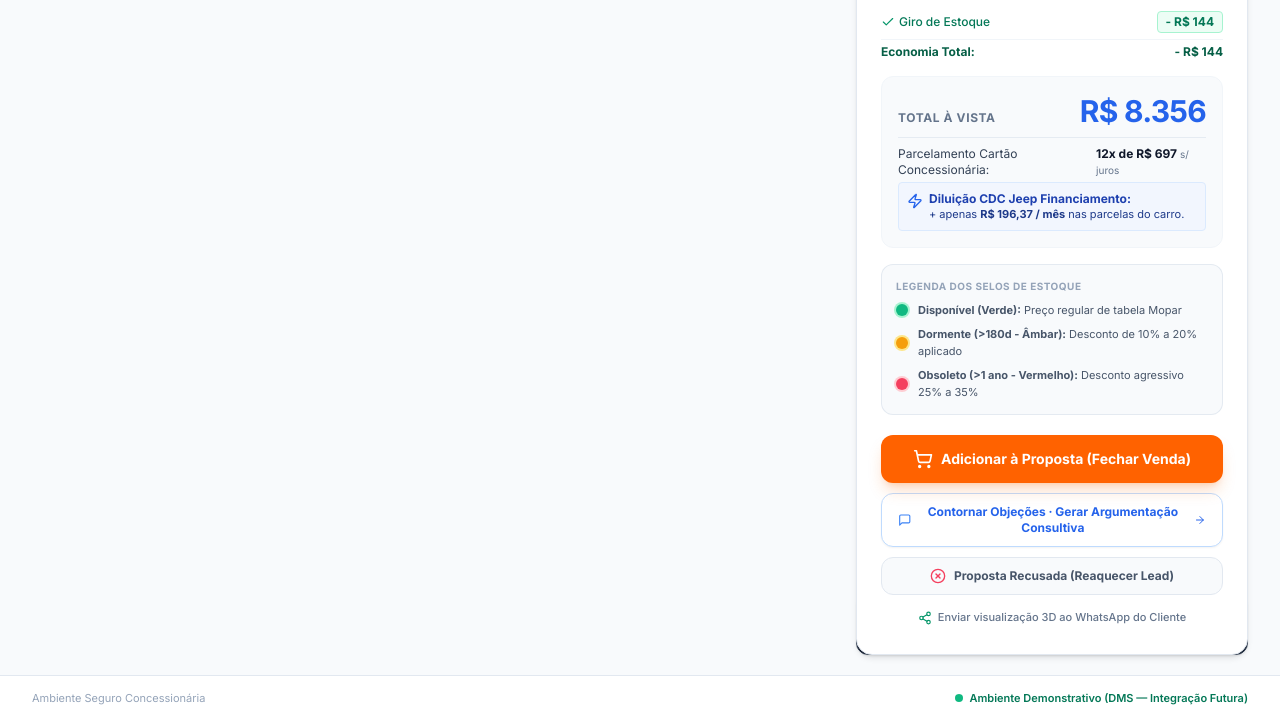
Test: Leads Repository & Reheating Flow › renders 'Proposta Recusada' button on VehicleVisualizationScreen and does not render 'Apresentação Interativa Antes & Depois'
(page scrolled)
# Click opens modal
Click the button "Proposta Recusada (Reaquecer Lead)" at (1052, 576), box [881, 557, 1223, 595]
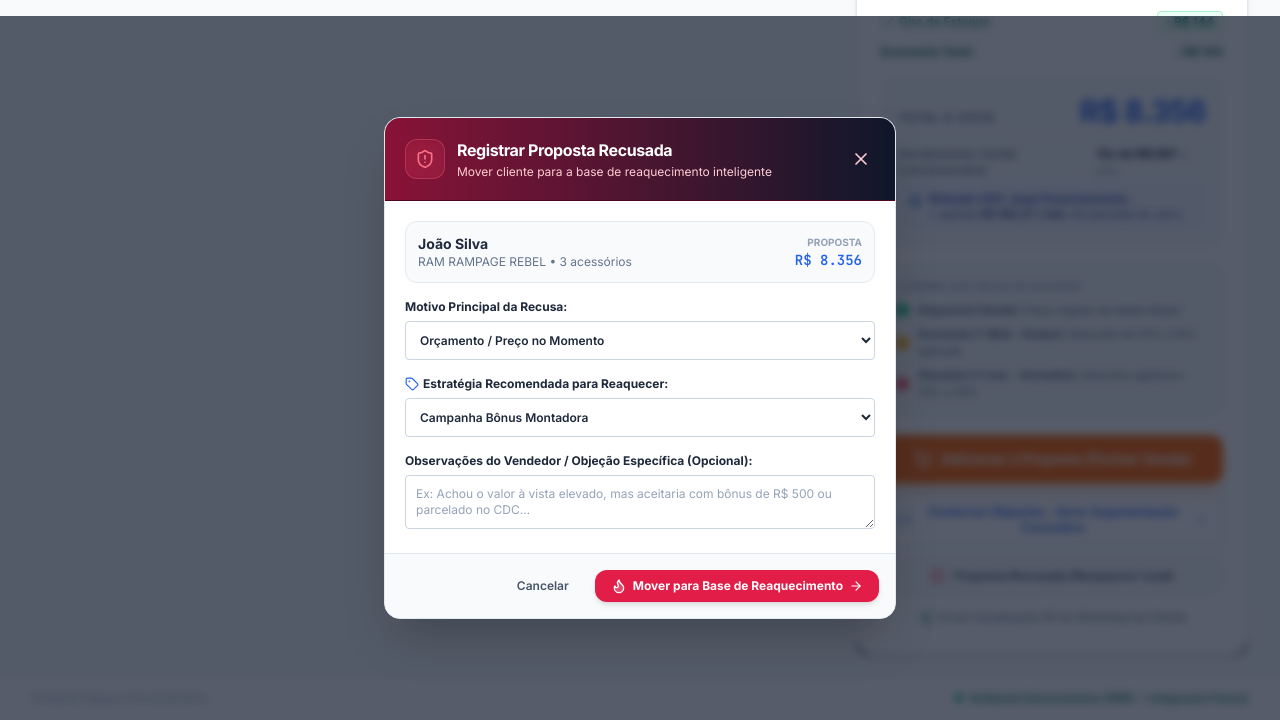
Now the heading "Registrar Proposta Recusada" is shown, box [457, 140, 672, 160]
